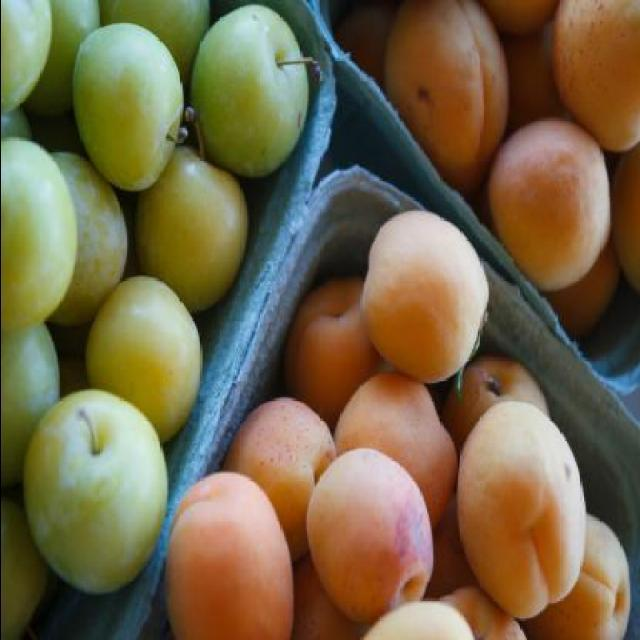Peach: (164, 209, 632, 640), (334, 0, 640, 348)
